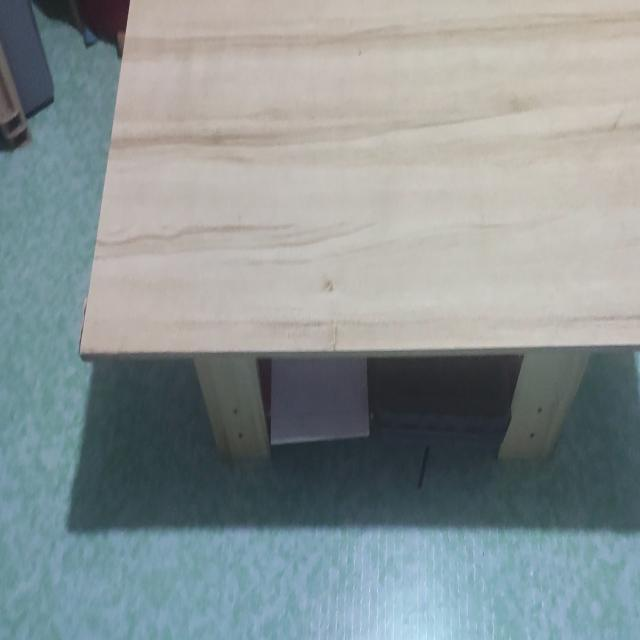table: (81, 0, 640, 490)
